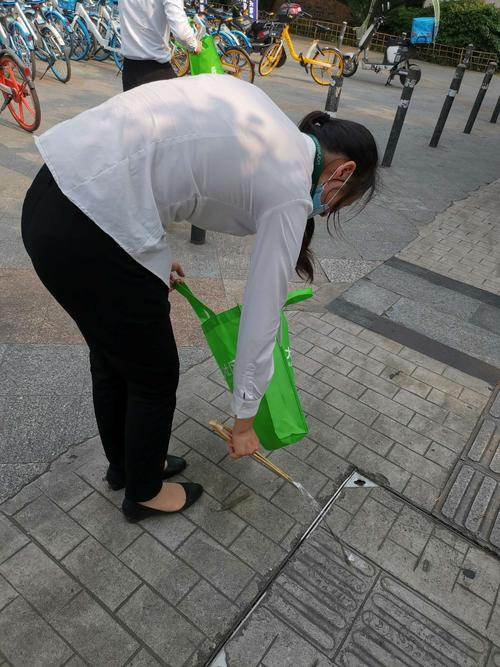bending: (6, 59, 390, 549)
